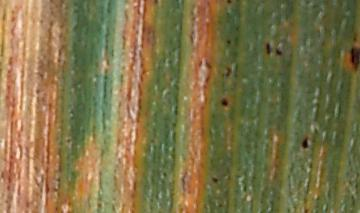tarspot: (348, 44, 360, 70), (300, 134, 311, 151), (219, 97, 231, 110), (264, 41, 273, 56), (274, 48, 285, 58), (210, 175, 220, 184), (150, 1, 161, 7), (226, 38, 233, 47), (302, 207, 311, 213), (351, 36, 358, 43), (225, 1, 235, 5)
